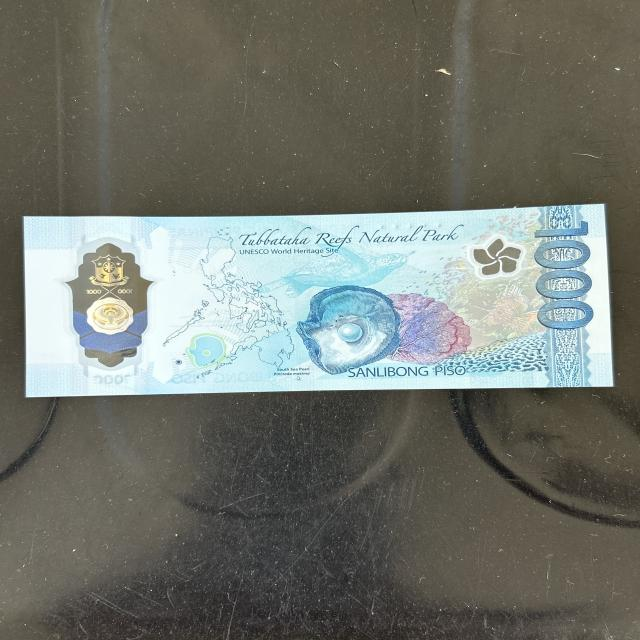clear_window: (68, 241, 158, 362)
sampaguita: (462, 236, 526, 283)
